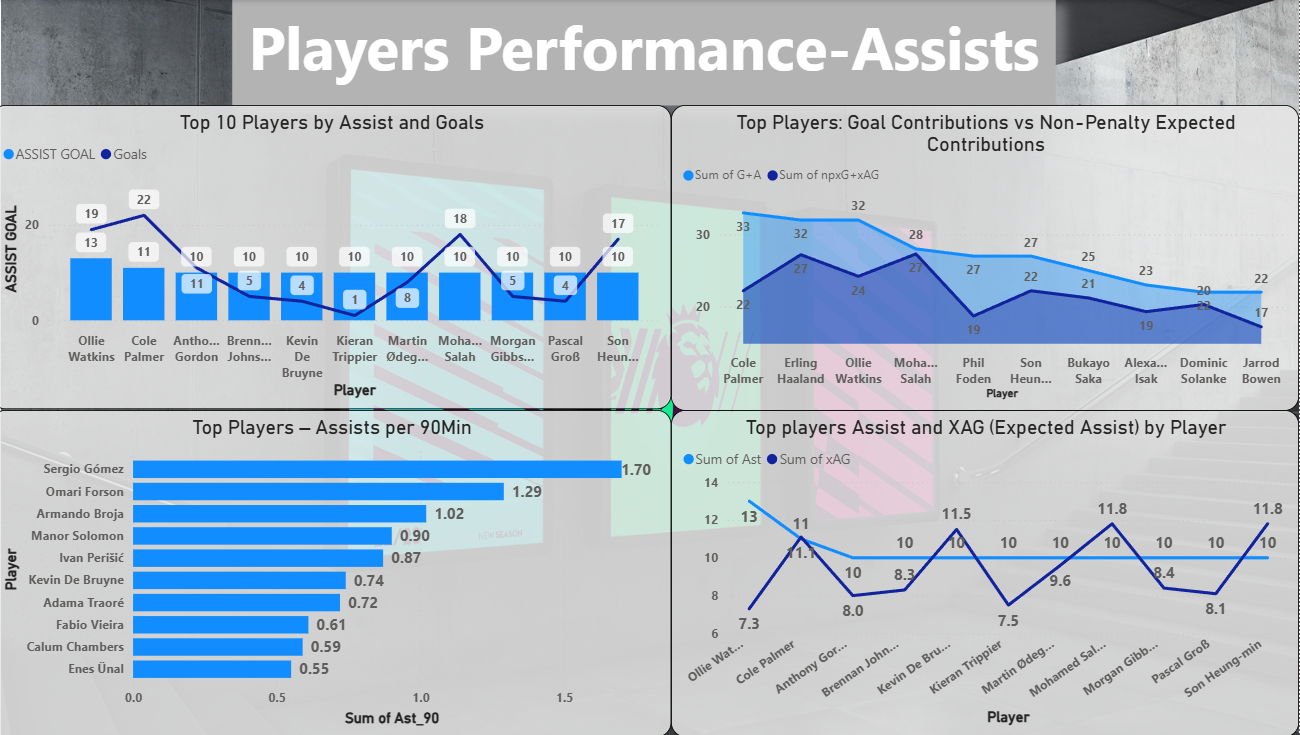

The page's visual inventory and layout, read from the dashboard file:
{"tool":"powerbi","page":{"name":"Page 5","canvas":[1280,720],"ordinal":4},"visuals":[{"type":"image","box":[9.6,0,1270.7,720.4],"z":0},{"type":"textbox","box":[236.5,0,805.6,103],"z":1000},{"type":"lineStackedColumnComboChart","title":"Top 10 Players by Assist and Goals","fields":{"Category":["premier-player-23-24.Player"],"Y":["ALL_MEASURES.ASSIST GOAL"],"Y2":["ALL_MEASURES.Goals"]},"box":[0,102.9,665.5,297.8],"z":2000},{"type":"barChart","title":"Top Players – Assists per 90Min","fields":{"Category":["premier-player-23-24.Player"],"Y":["Sum(premier-player-23-24.Ast_90)"]},"box":[0,400.7,665.5,319.7],"z":3000},{"type":"lineChart","title":"Top players Assist and XAG (Expected Assist) by Player","fields":{"Category":["premier-player-23-24.Player"],"Y":["Sum(premier-player-23-24.Ast)","Sum(premier-player-23-24.xAG)"]},"box":[665.5,400.7,614.8,319.7],"z":4000},{"type":"areaChart","title":"Top Players: Goal Contributions vs Non-Penalty Expected Contributions","fields":{"Category":["premier-player-23-24.Player"],"Y":["Sum(premier-player-23-24.G+A)","Sum(premier-player-23-24.npxG+xAG)"]},"box":[665.5,102.9,614.8,299.1],"z":5000}]}

Visuals, with their boxes in screenshot pixels (x1, y1, x2, y2), scaled from the page's 1280x720 canvas onto the 1300x735 screenshot:
image: (10, 0, 1299, 734)
textbox: (240, 0, 1058, 105)
"Top 10 Players by Assist and Goals" lineStackedColumnComboChart: (0, 105, 676, 409)
"Top Players – Assists per 90Min" barChart: (0, 409, 676, 734)
"Top players Assist and XAG (Expected Assist) by Player" lineChart: (676, 409, 1299, 734)
"Top Players: Goal Contributions vs Non-Penalty Expected Contributions" areaChart: (676, 105, 1299, 410)
